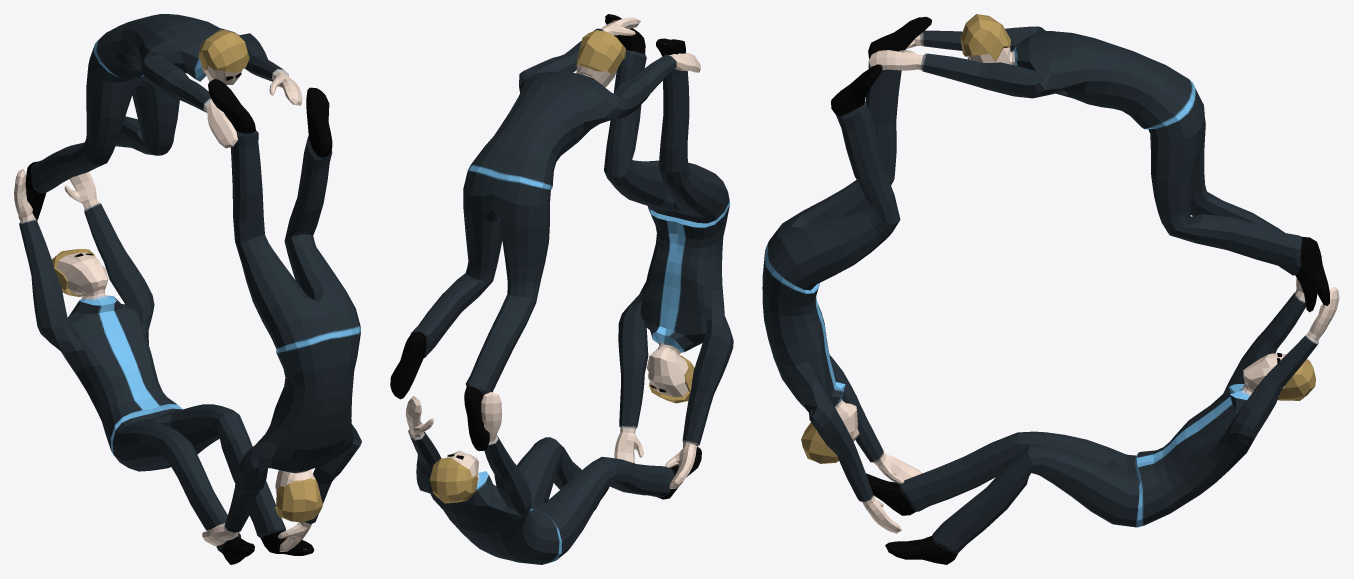
Rendered from PT_char_003.fbx.
3 renders of one model, left to right at view 1: azimuth 30°, elevation 25°; view 2: azimuth 150°, elevation 25°; view 3: azimuth 270°, elevation 25°, orthographic. The views are drawn at different scales.
Visible parts, largest first — view 1: Box009; view 2: Box009; view 3: Box009.
Boxes of the visible parts, x1,y1,x2,y2 form: Box009: (14, 14, 361, 564); Box009: (390, 14, 733, 564); Box009: (762, 14, 1339, 564).
Size of the model in its own units: 5.22 by 22.67 by 22.34.
Materials: 1 (1 with a texture image).
